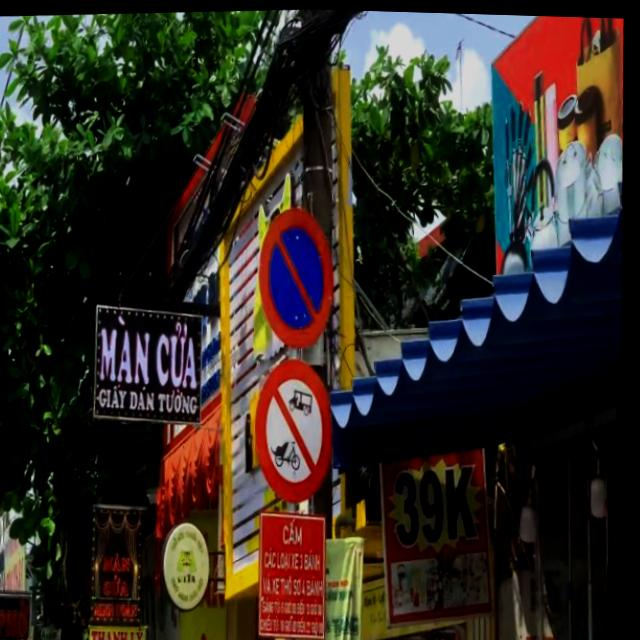Cam do xe: (259, 206, 348, 347)
